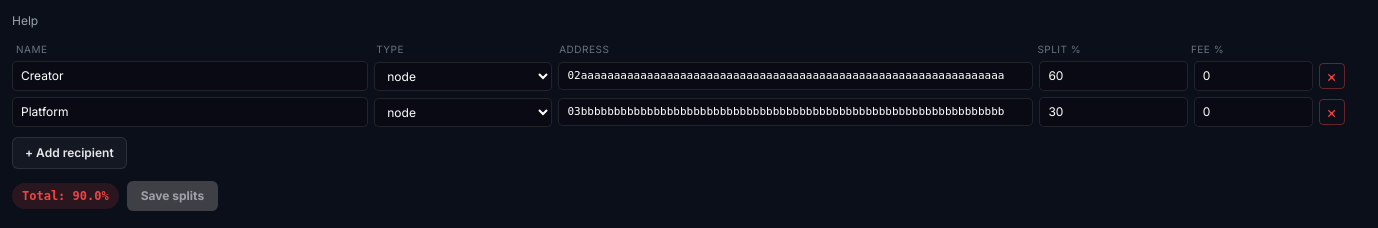
Test: Phase 36d Turn 3 — Lightning splits › editor running-total chip + Save gate reflect sum=100
Check: the text with test id "lightning-total-chip" shows "90.0%", box [12, 183, 119, 209]
Check: the button with test id "lightning-save" is disabled, box [127, 181, 218, 211]
Note: Bump row 1 split to 40 → total 100 → Save enabled.
Replace the text in the number field with test id "lightning-split-1" with "40": (1114, 112) [1039, 97, 1188, 127]
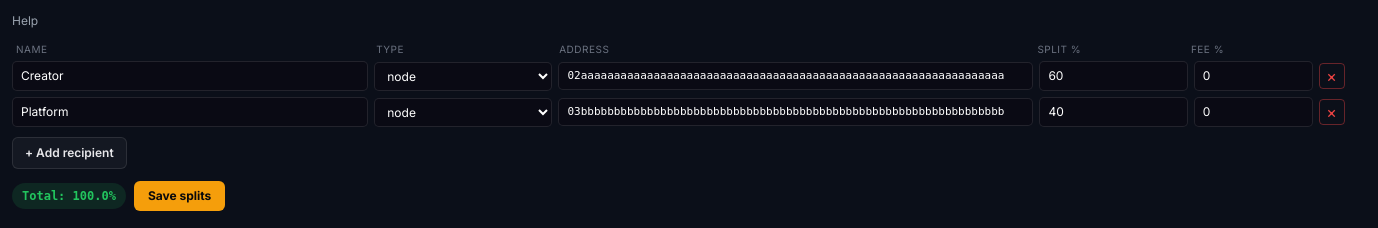
Check: the text with test id "lightning-total-chip" shows "100.0%", box [12, 183, 126, 209]
Check: the button with test id "lightning-save" is enabled, box [134, 181, 225, 211]
